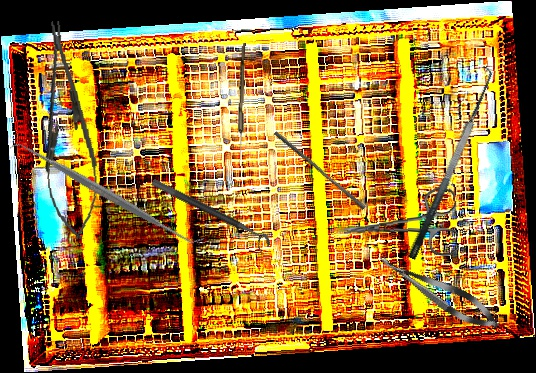Fixation Ring: (145, 177, 274, 256)
Iris Scissors: (341, 186, 460, 263)
Micro Scissor: (372, 245, 505, 338)
Needle Holder: (30, 18, 105, 242)
Pusher: (270, 130, 369, 211)
Spatula Surgical: (8, 130, 206, 257), (391, 63, 504, 261)
Surgical Spoon: (237, 42, 246, 164)
